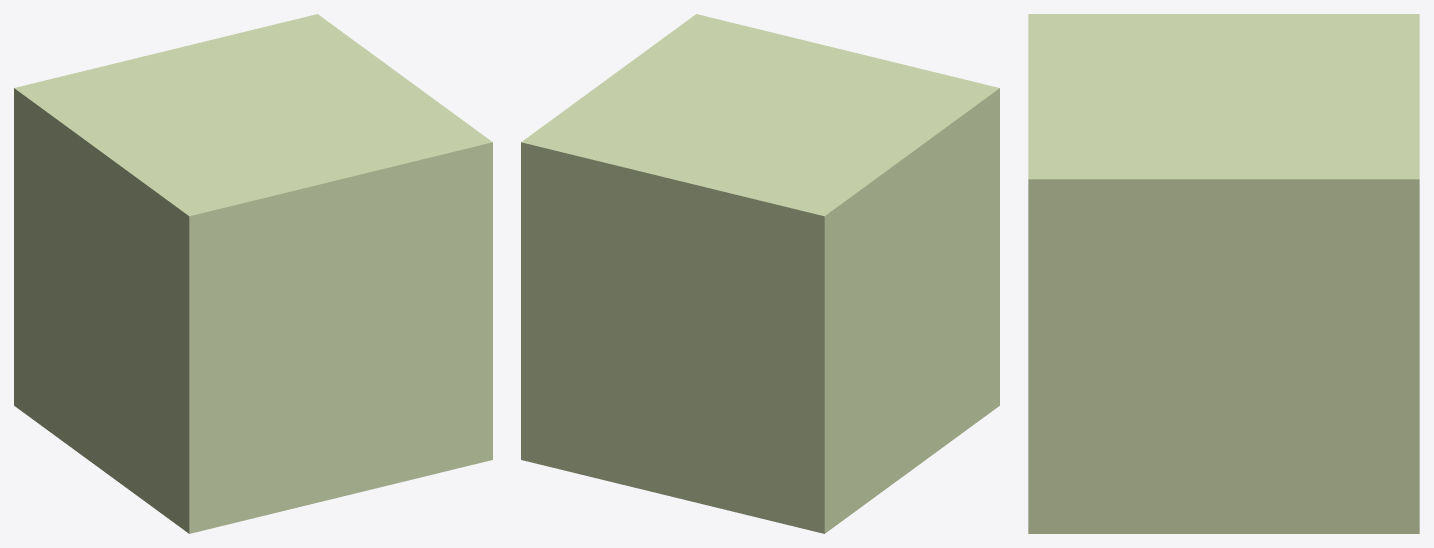
The model's file is the room.fbx.
3 renders of one model, left to right at view 1: azimuth 30°, elevation 25°; view 2: azimuth 150°, elevation 25°; view 3: azimuth 270°, elevation 25°, orthographic. The views are drawn at different scales.
Visible parts, largest first — view 1: Room; view 2: Room; view 3: Room.
Part boxes in pixels (box(x1,y1,x2,y2)): Room: box(14, 14, 492, 533); Room: box(521, 14, 999, 533); Room: box(1028, 14, 1419, 533).
Bounding box in the file's own units: 1291 × 1291 × 1291.
